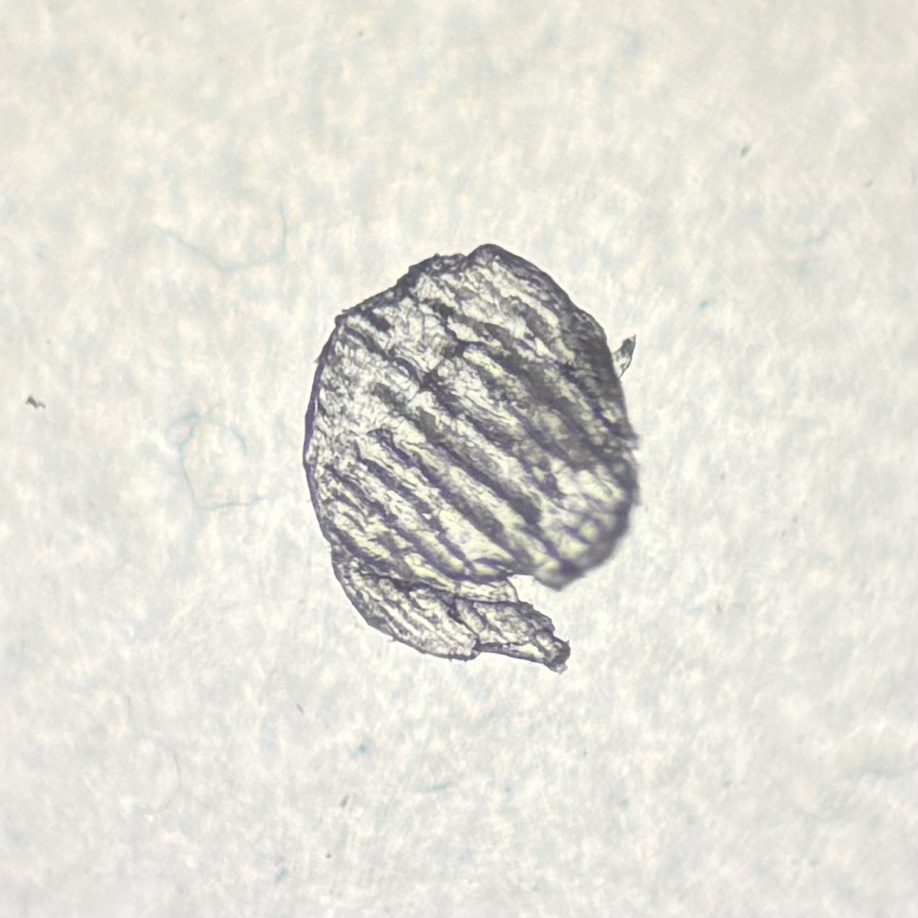microplastic: (304, 245, 638, 673)
